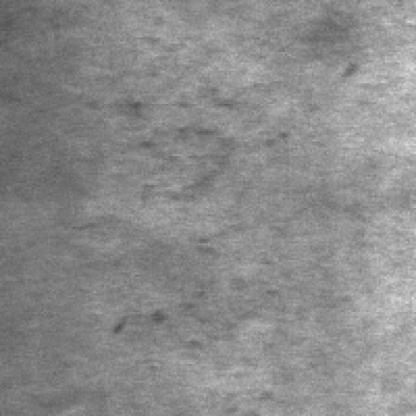rolled-in_scale: (129, 77, 287, 204), (147, 228, 277, 350)
